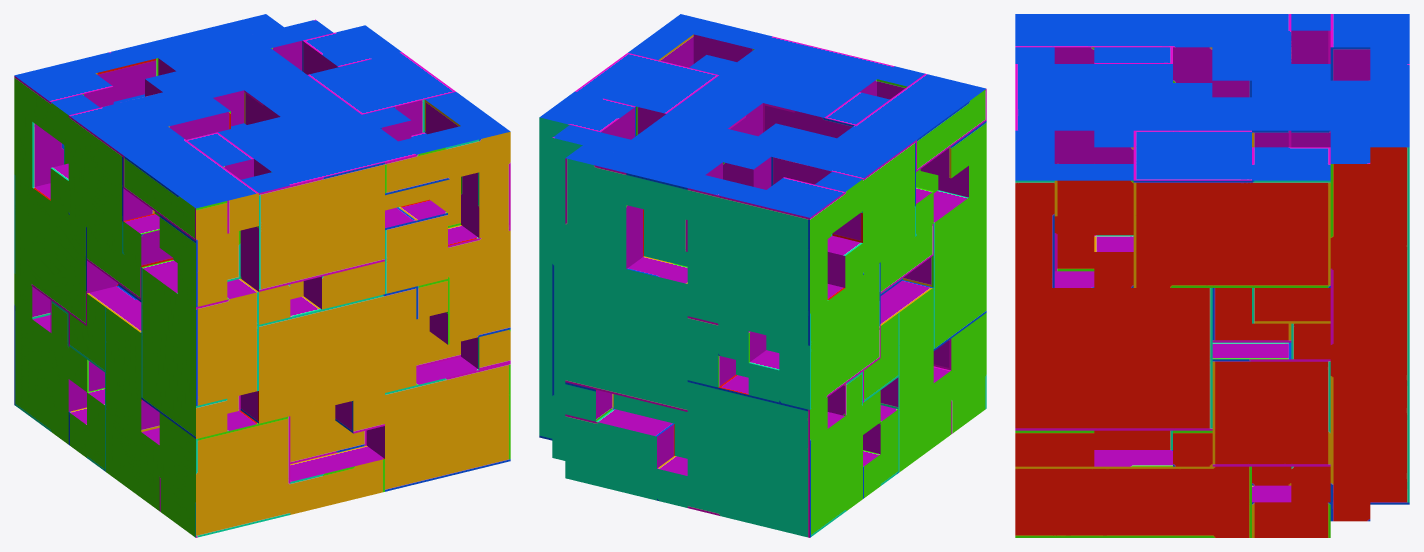
Rendered from side.glb.
3 views of the same model, side by side, from view 1: azimuth 30°, elevation 25°; view 2: azimuth 150°, elevation 25°; view 3: azimuth 270°, elevation 25° (orthographic). The views are drawn at different scales.
Visible parts, largest first — view 1: Cube; view 2: Cube; view 3: Cube.
Boxes of the visible parts, x1,y1,x2,y2 form: Cube: [14, 14, 510, 537]; Cube: [539, 14, 986, 537]; Cube: [1015, 14, 1409, 537].
Size of the model in its own units: 2 by 2 by 2.
Materials: 1 (1 with a texture image).
